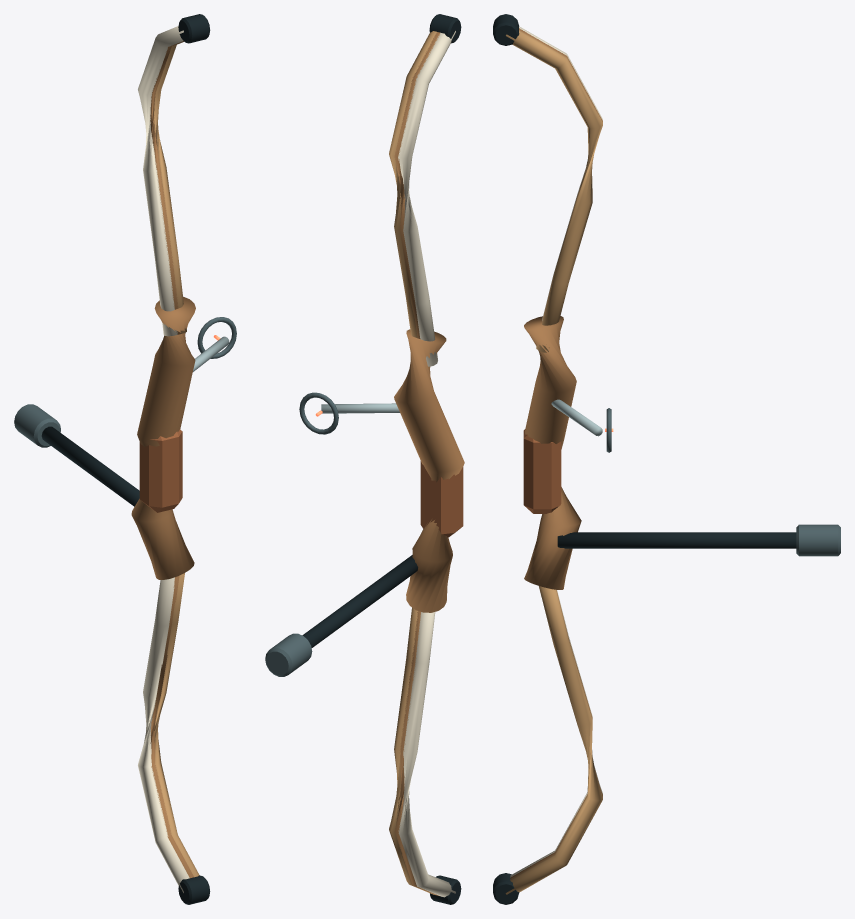
The model's file is club-recurve.glb.
3 renders of one model, left to right at view 1: azimuth 30°, elevation 25°; view 2: azimuth 150°, elevation 25°; view 3: azimuth 270°, elevation 25°, orthographic.
Parts seen in each view (by area): view 1: Sculpted riser, Laminated limb, Laminated limb.003, Leather grip, Stabilizer, Laminated limb.002, Laminated limb.005, Laminated limb.001, Laminated limb.004, Stabilizer weight, Limb tip nock.001, Limb tip nock (+1 smaller); view 2: Sculpted riser, Laminated limb.003, Laminated limb, Leather grip, Stabilizer, Laminated limb.005, Laminated limb.002, Stabilizer weight, Laminated limb.004, Laminated limb.001, Sight mount, Sight aperture (+2 smaller); view 3: Sculpted riser, Laminated limb.002, Laminated limb.005, Stabilizer, Leather grip, Stabilizer weight.
Part boxes in pixels (x1=…): Sculpted riser: x1=131, y1=296, x2=195, y2=579; Laminated limb: x1=138, y1=577, x2=189, y2=892; Laminated limb.003: x1=138, y1=26, x2=183, y2=336; Leather grip: x1=139, y1=429, x2=182, y2=512; Stabilizer: x1=41, y1=426, x2=139, y2=506; Laminated limb.002: x1=154, y1=573, x2=199, y2=877; Laminated limb.005: x1=153, y1=41, x2=186, y2=333; Laminated limb.001: x1=150, y1=576, x2=193, y2=878; Laminated limb.004: x1=150, y1=41, x2=183, y2=334; Stabilizer weight: x1=14, y1=404, x2=60, y2=447; Limb tip nock.001: x1=178, y1=14, x2=210, y2=43; Limb tip nock: x1=178, y1=875, x2=210, y2=904; Sculpted riser: x1=394, y1=329, x2=464, y2=612; Laminated limb.003: x1=398, y1=31, x2=455, y2=366; Laminated limb: x1=398, y1=612, x2=455, y2=897; Leather grip: x1=420, y1=461, x2=463, y2=537; Stabilizer: x1=302, y1=555, x2=417, y2=647; Laminated limb.005: x1=389, y1=31, x2=436, y2=338; Laminated limb.002: x1=389, y1=607, x2=434, y2=894; Stabilizer weight: x1=265, y1=633, x2=312, y2=676; Laminated limb.004: x1=394, y1=32, x2=439, y2=338; Laminated limb.001: x1=394, y1=611, x2=438, y2=895; Sight mount: x1=321, y1=403, x2=399, y2=413; Sight aperture: x1=299, y1=392, x2=338, y2=434; Sculpted riser: x1=524, y1=316, x2=581, y2=589; Laminated limb.002: x1=505, y1=586, x2=602, y2=894; Laminated limb.005: x1=506, y1=30, x2=602, y2=352; Stabilizer: x1=557, y1=532, x2=796, y2=548; Leather grip: x1=523, y1=429, x2=561, y2=513; Stabilizer weight: x1=796, y1=524, x2=840, y2=556.
Size of the model in its own units: 0.2171 by 1.42 by 0.5065.
